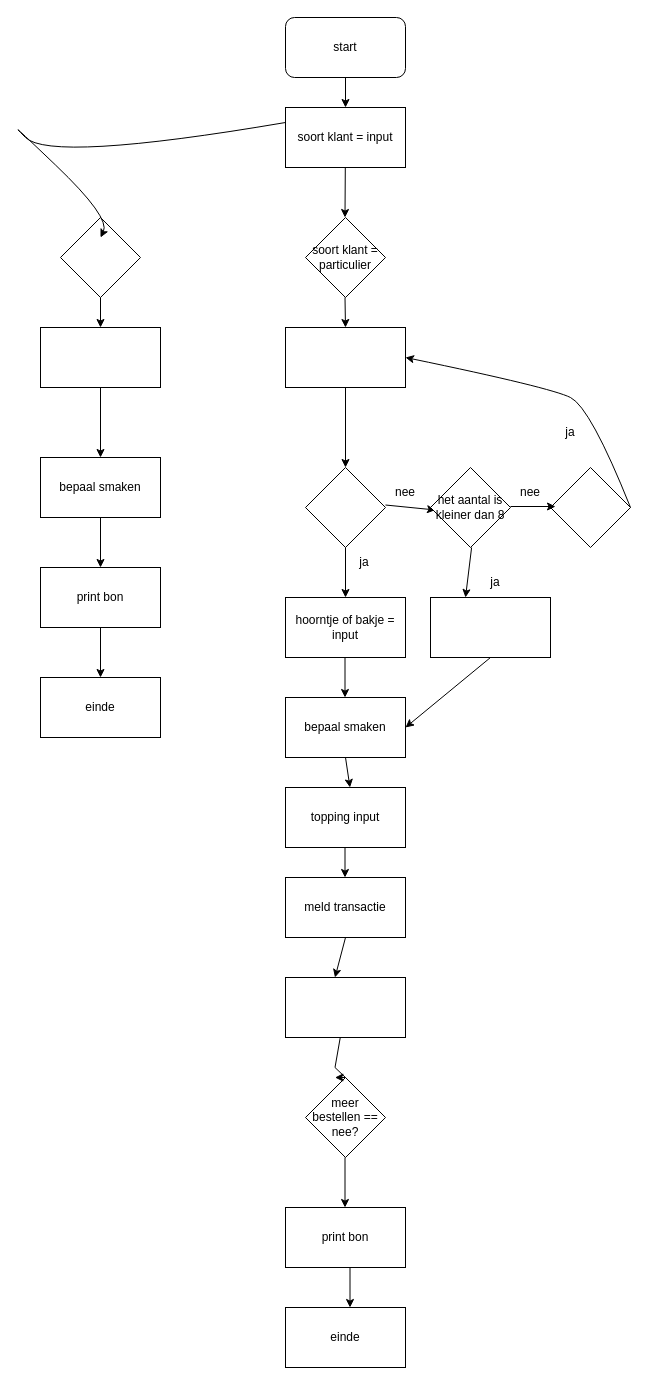
The diagram is 648 pixels wide and 1385 high, and some of its shapes have lost their labels. The centre of each missing label's shape, as x and y in pixels:
bolletjes = input: pixel 345 357
het aantal is groter dan 8: pixel 590 507
het aantal is kleiner dan 3: pixel 345 507
liter = input: pixel 100 357
meer bestellen =input: pixel 345 1007
soort klant = zakelijk: pixel 100 257
wordt bakje: pixel 490 627
